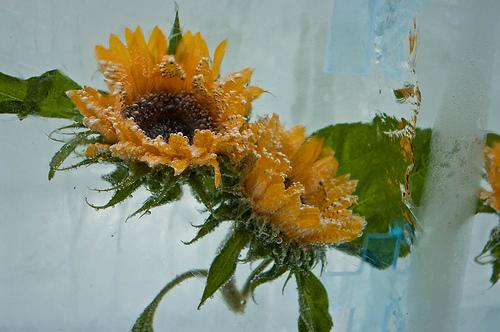sunflower: (66, 25, 254, 174), (232, 113, 368, 248)
